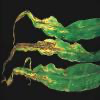Corn leaf blight: (2, 64, 99, 93), (9, 10, 99, 41), (2, 41, 99, 63)
